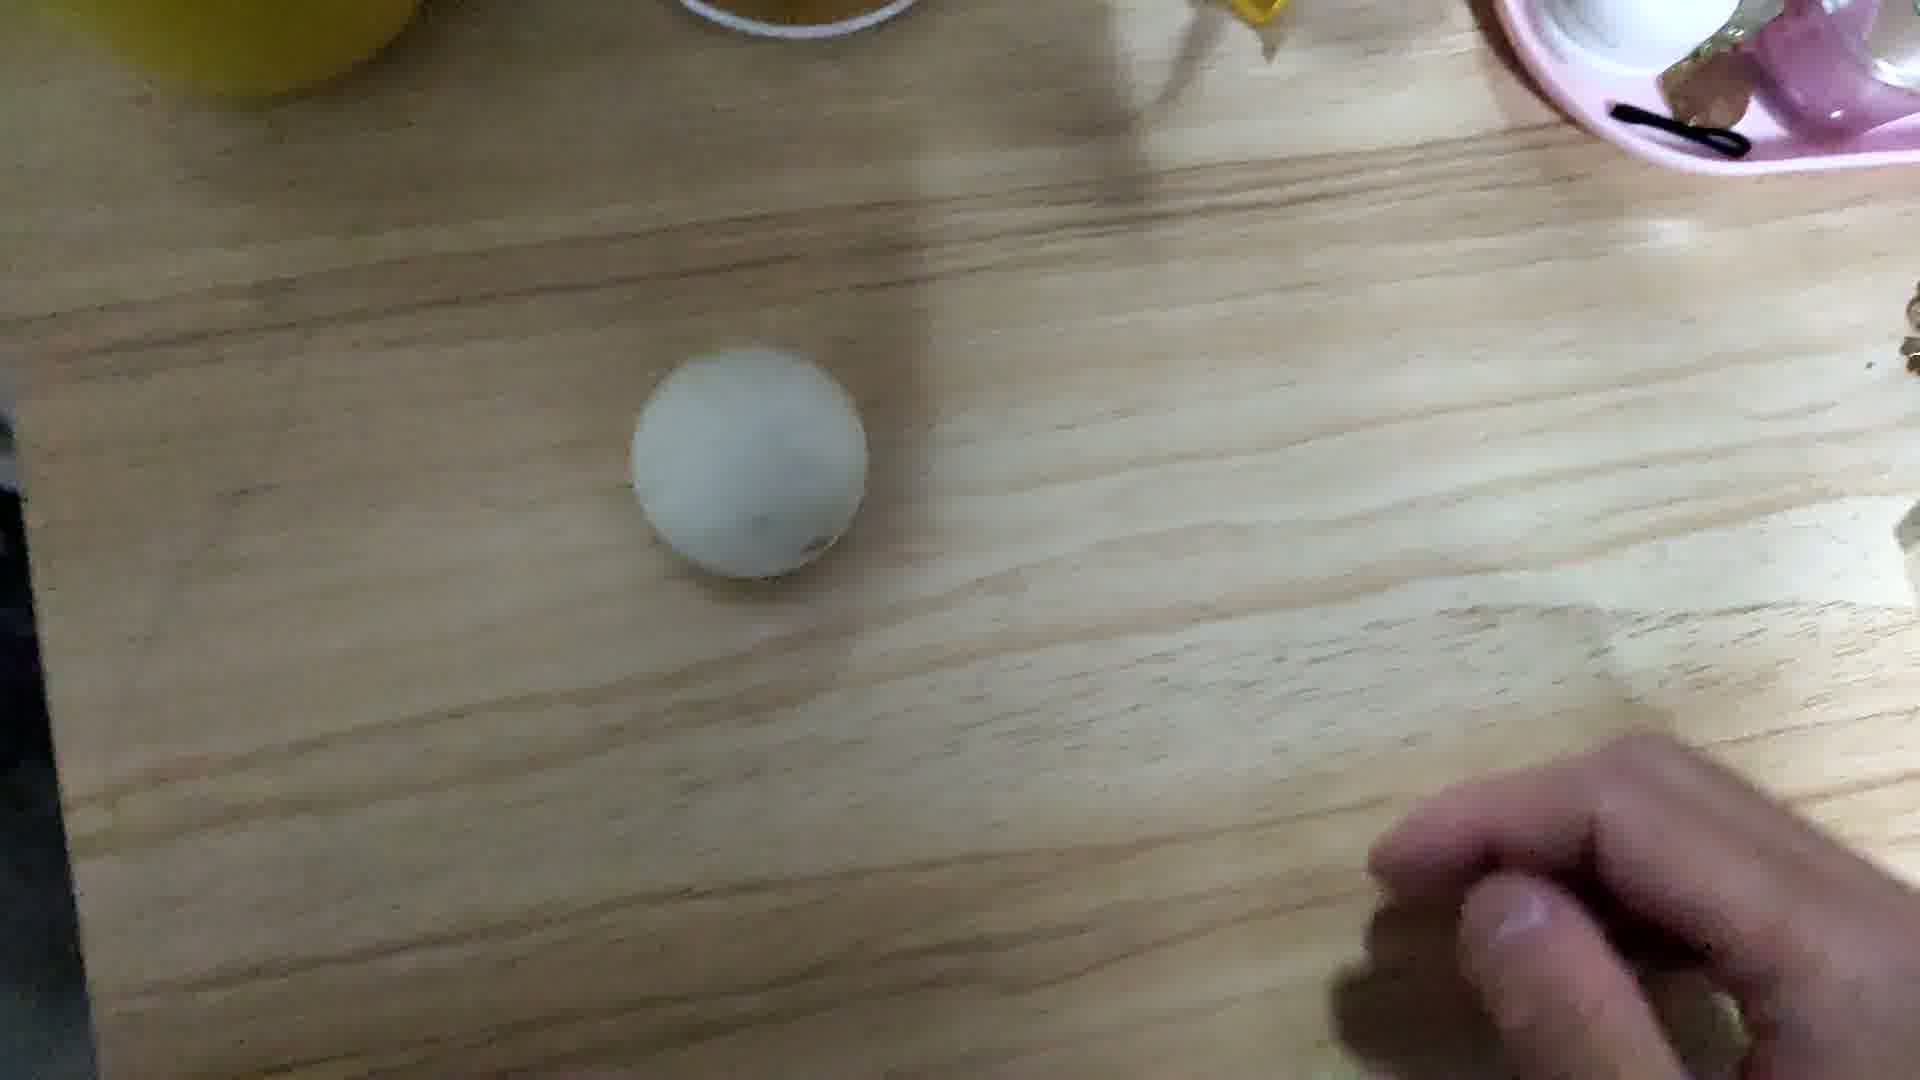Ball: (626, 345, 866, 582)
